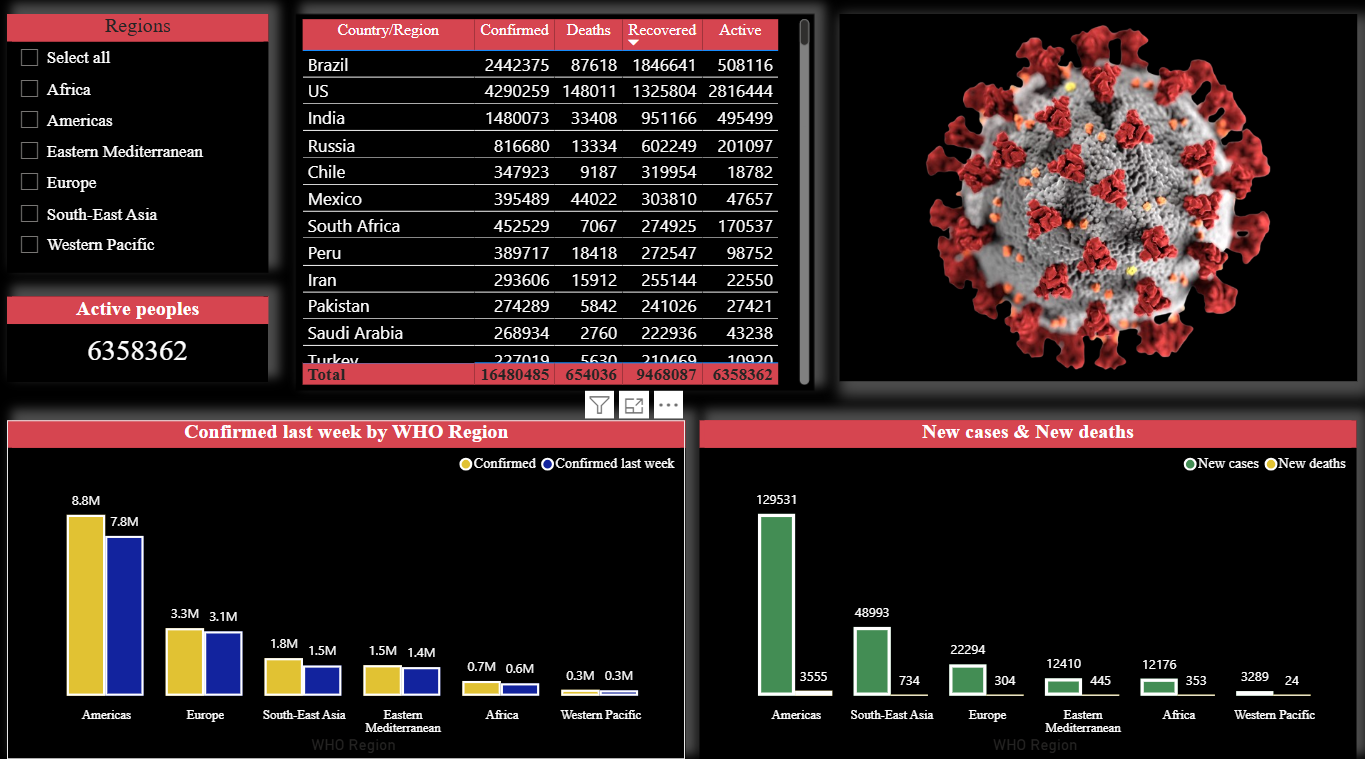

Layout of this report page (visuals, bound fields, positions):
{"tool":"powerbi","page":{"name":"Old & New cases","canvas":[1280,720],"ordinal":1},"visuals":[{"type":"clusteredColumnChart","title":"Confirmed last week by WHO Region","fields":{"Category":["country_wise_latest.WHO Region"],"Y":["Sum(country_wise_latest.Confirmed)","Sum(country_wise_latest.Confirmed last week)"]},"box":[8.8,396.2,631.2,315],"z":0},{"type":"clusteredColumnChart","title":"New cases & New deaths","fields":{"Category":["country_wise_latest.WHO Region"],"Y":["Sum(country_wise_latest.New cases)","Sum(country_wise_latest.New deaths)"]},"box":[653.8,396.2,611.2,315],"z":1000},{"type":"slicer","title":"Regions","fields":{"Values":["country_wise_latest.WHO Region"]},"box":[9.3,18.6,243,240.7],"z":2000},{"type":"card","title":"Active peoples","fields":{"Values":["Sum(country_wise_latest.Active)"]},"box":[9.3,281.4,243,79.1],"z":3000},{"type":"image","box":[783.7,18.6,481.4,341.9],"z":4000},{"type":"tableEx","fields":{"Values":["country_wise_latest.Country/Region","Sum(country_wise_latest.Confirmed)","Sum(country_wise_latest.Deaths)","Sum(country_wise_latest.Recovered)","Sum(country_wise_latest.Active)"]},"box":[277.9,18.6,482.6,350],"z":5000}]}

Visuals, with their boxes in screenshot pixels (x1, y1, x2, y2), scaled from the page's 1280x720 canvas onto the 1365x759 screenshot:
"Confirmed last week by WHO Region" clusteredColumnChart: BBox(9, 418, 682, 750)
"New cases & New deaths" clusteredColumnChart: BBox(697, 418, 1349, 750)
"Regions" slicer: BBox(10, 20, 269, 273)
"Active peoples" card: BBox(10, 297, 269, 380)
image: BBox(836, 20, 1349, 380)
tableEx - country_wise_latest.Country/Region x Sum(country_wise_latest.Confirmed): BBox(296, 20, 811, 389)
